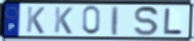0: (81, 5, 101, 37)
I: (111, 6, 120, 37)
K: (53, 6, 74, 36), (25, 6, 46, 35)
L: (163, 7, 184, 35)
S: (134, 5, 160, 37)
